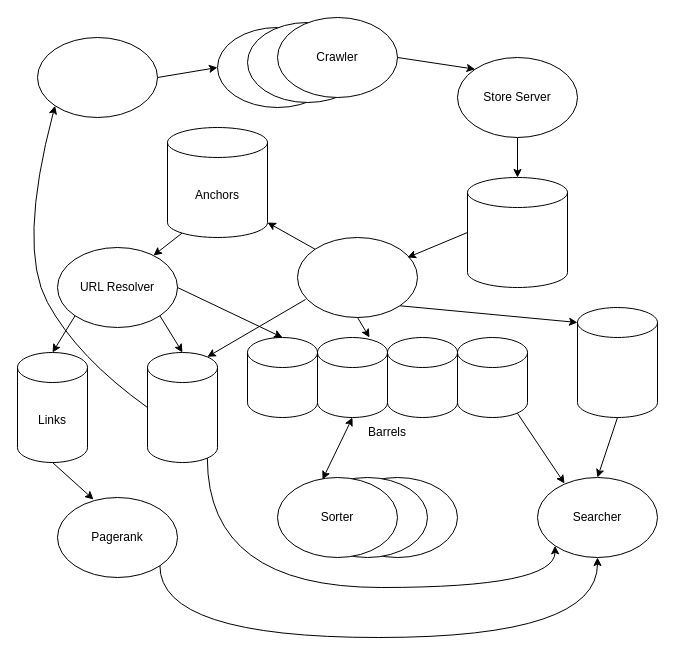
The diagram is 675 pixels wide and 655 high, and some of its shapes have lost their labels. Here are the shapes that lost their labels. From the top down, the centre of each, then its label:
point (97, 77): URL Server
point (517, 232): Repository
point (357, 277): Indexer
point (617, 362): Lexicon
point (182, 407): Doc Index
